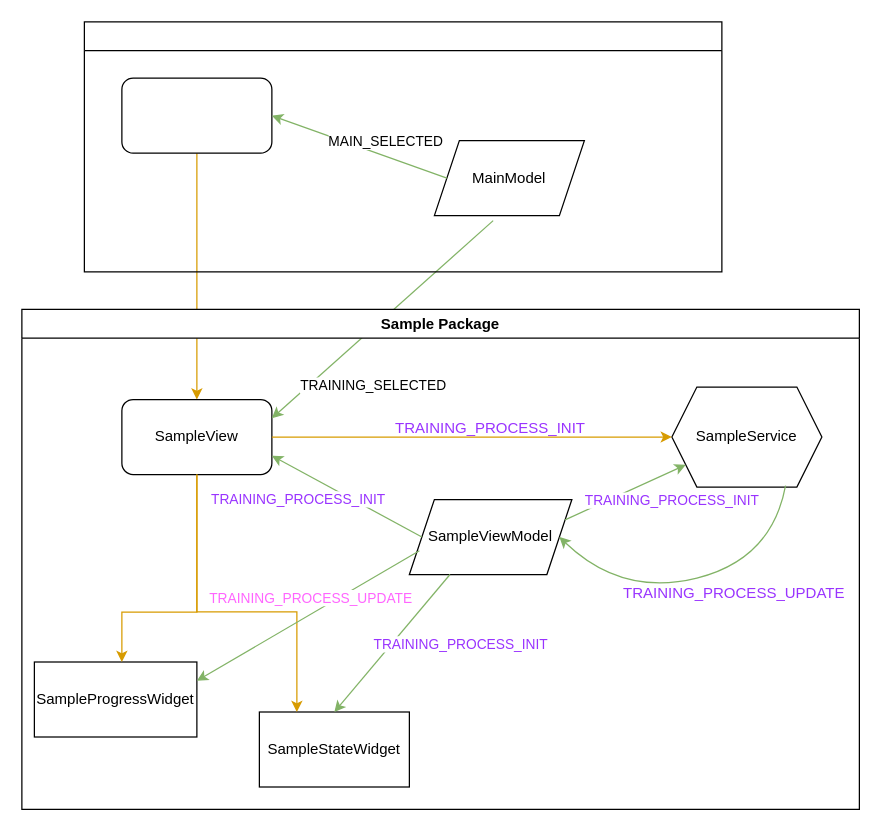
The diagram is 881 pixels wide and 831 high, and some of its shapes have lost their labels. The box of each missing label's shape, as (x1, y1, x2, y2) in pixels:
Main Package: (83, 21, 722, 272)
MainView: (121, 77, 272, 153)
